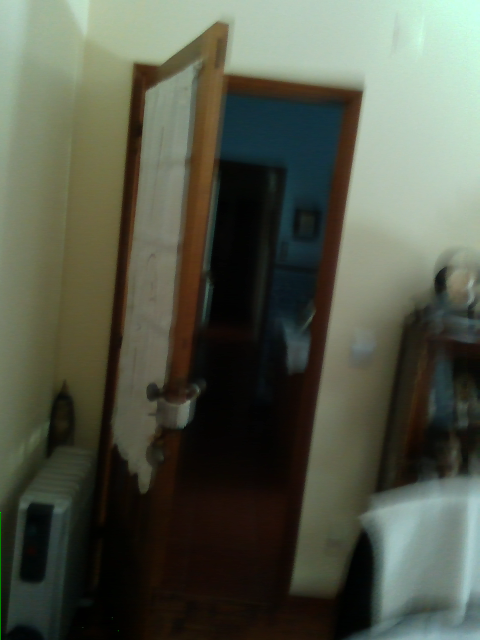semi: (87, 21, 365, 615)
